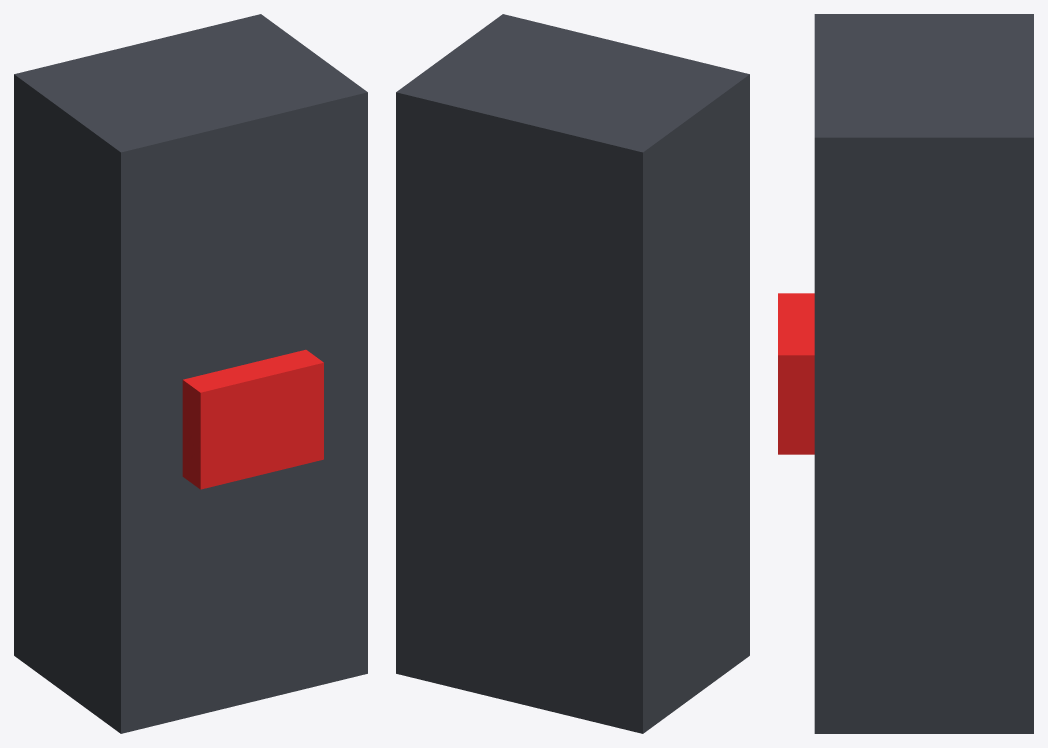
File: prop_laser_emitter.glb
3 renders of one model, left to right at view 1: azimuth 30°, elevation 25°; view 2: azimuth 150°, elevation 25°; view 3: azimuth 270°, elevation 25°, orthographic. The views are drawn at different scales.
Parts seen in each view (by area): view 1: emitter; view 2: emitter; view 3: emitter.
Part boxes in pixels (x1,y1,x2,y2): emitter: [14, 14, 367, 733]; emitter: [396, 14, 749, 733]; emitter: [778, 14, 1033, 733].
Size of the model in its own units: 0.08 by 0.18 by 0.07.
1 material, 1 textured.
